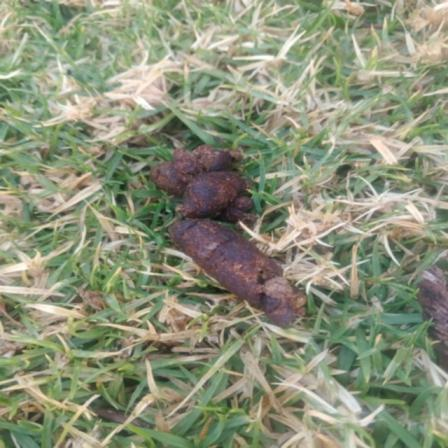dog-poop: (143, 145, 308, 328)
